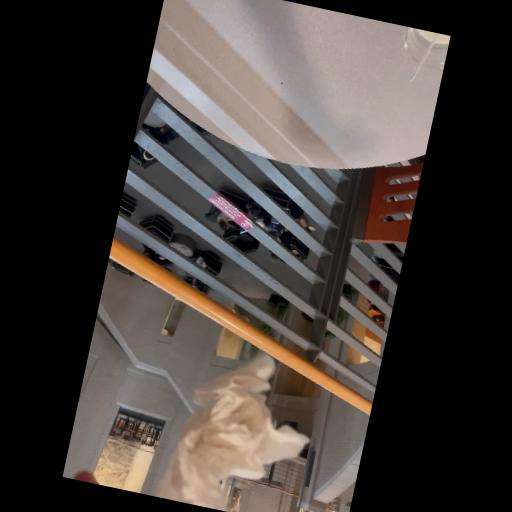napkin: (152, 317, 335, 512)
